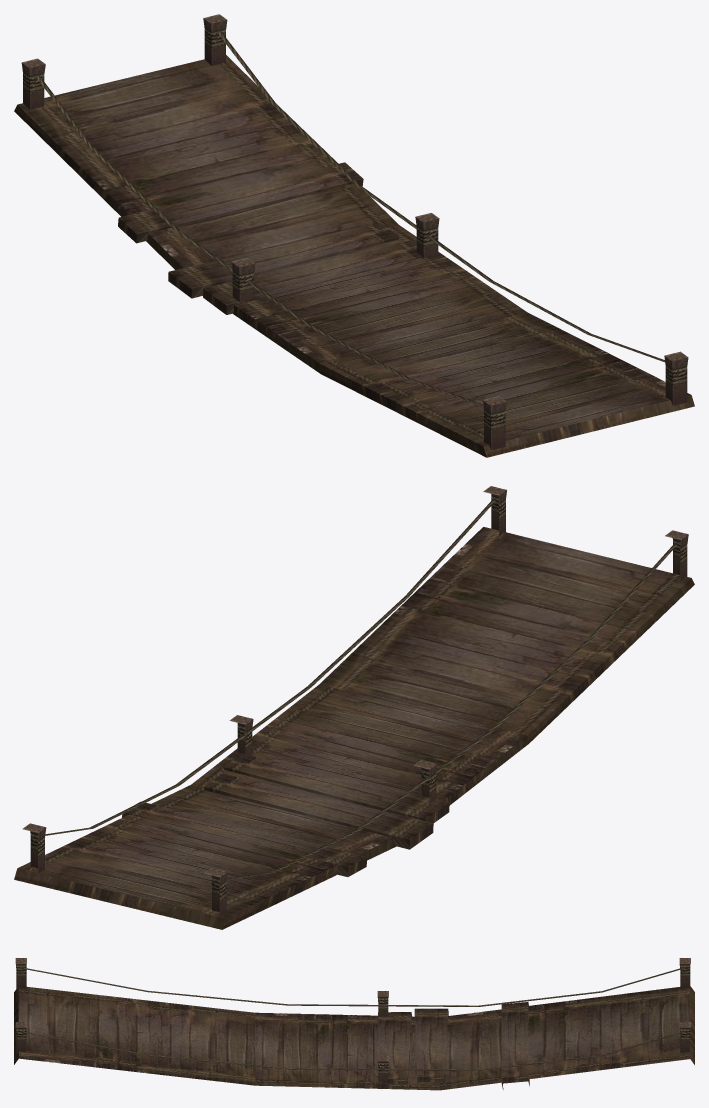
The model's file is yw_dunhuang_qiao01.FBX.
3 renders of one model, top to bottom at view 1: azimuth 30°, elevation 25°; view 2: azimuth 150°, elevation 25°; view 3: azimuth 270°, elevation 25°, orthographic. The views are drawn at different scales.
Visible parts, largest first — view 1: yw_dunhuang_qiao01; view 2: yw_dunhuang_qiao01; view 3: yw_dunhuang_qiao01.
Part boxes in pixels (box(x1,y1,x2,y2)): yw_dunhuang_qiao01: box(14, 14, 694, 457); yw_dunhuang_qiao01: box(14, 486, 694, 929); yw_dunhuang_qiao01: box(14, 958, 694, 1090).
Bounding box in the file's own units: 425 × 164 × 1498.
Materials: 1 (1 with a texture image).
